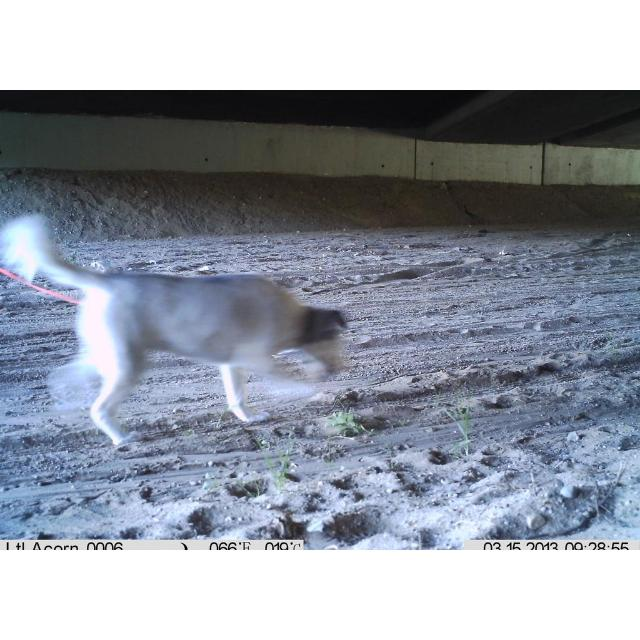animals: (0, 215, 350, 447)
